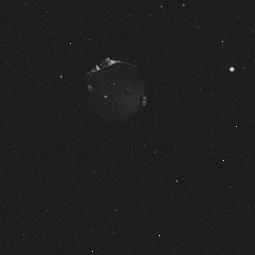lisa_pathfinder: (71, 54, 162, 121)
